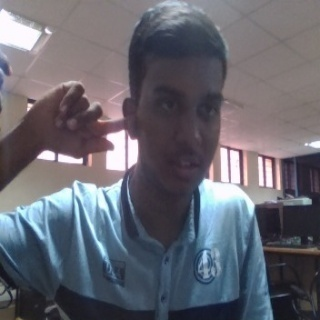Deaf: (21, 79, 133, 161)
Face: (122, 6, 229, 199)
